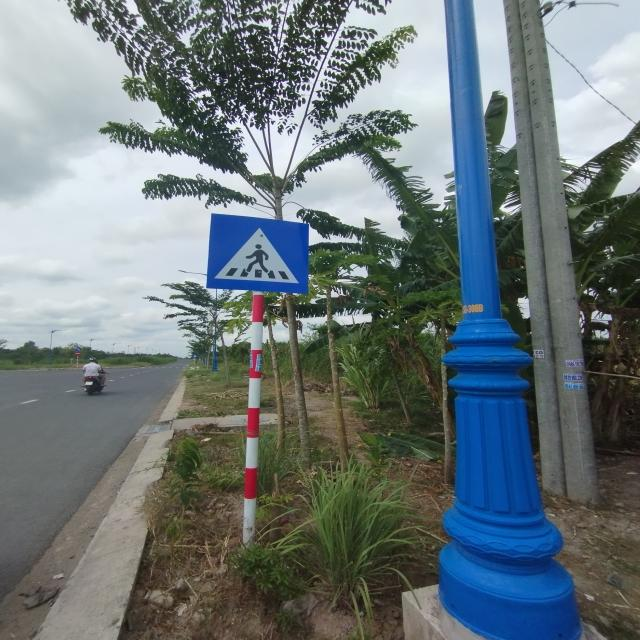Giao_Nhau_Duong_Uu_Tien: (206, 213, 309, 294)
